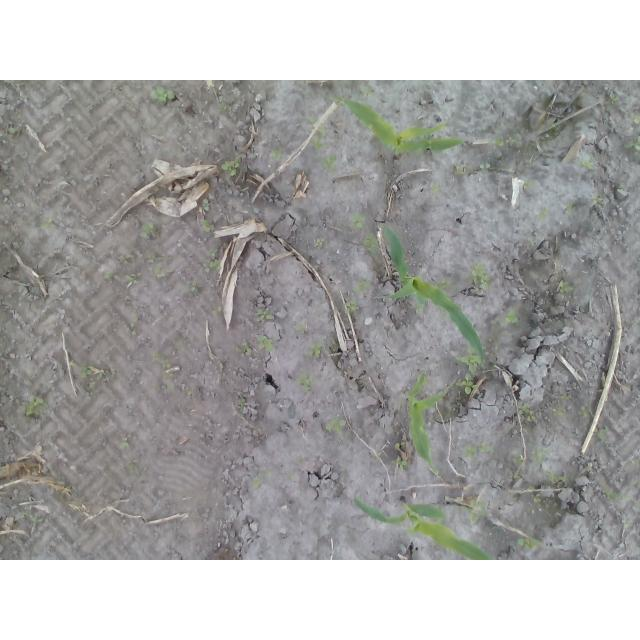Maize: (382, 221, 487, 363), (350, 492, 493, 560), (331, 93, 469, 160), (405, 369, 447, 479)
Weeds: (463, 499, 490, 526), (514, 448, 553, 465), (471, 263, 493, 289), (309, 117, 326, 150), (295, 371, 319, 394), (240, 336, 272, 353), (148, 85, 176, 104), (466, 440, 497, 457), (248, 470, 272, 491), (456, 354, 481, 374), (25, 396, 47, 418), (455, 374, 477, 395), (606, 488, 634, 504), (552, 390, 568, 416), (324, 415, 346, 433), (545, 466, 568, 483), (516, 536, 539, 553), (21, 511, 44, 527), (519, 402, 537, 422), (304, 339, 324, 357), (502, 306, 520, 325), (139, 223, 157, 242), (220, 159, 239, 177), (366, 231, 379, 257), (350, 211, 366, 231), (155, 351, 172, 369), (352, 276, 369, 293), (344, 298, 361, 315), (622, 140, 640, 155), (147, 255, 162, 273), (255, 307, 273, 321), (319, 155, 337, 169), (595, 424, 609, 441), (559, 280, 577, 293), (564, 198, 577, 215), (537, 207, 551, 222), (496, 137, 517, 147), (575, 159, 593, 170), (592, 193, 605, 208), (127, 273, 143, 285), (391, 457, 405, 470), (208, 259, 221, 272), (622, 512, 632, 528), (627, 112, 640, 124), (548, 126, 561, 138), (41, 219, 54, 230), (578, 406, 590, 417), (452, 165, 464, 176), (271, 150, 282, 162), (437, 279, 450, 289), (479, 161, 492, 171), (313, 237, 326, 247), (79, 368, 90, 379), (211, 303, 221, 315), (527, 239, 537, 249), (533, 494, 543, 504), (120, 255, 129, 266), (7, 127, 18, 136), (631, 501, 640, 512), (432, 183, 441, 193), (610, 95, 619, 105), (527, 483, 537, 492), (523, 179, 534, 187), (120, 440, 131, 448), (631, 459, 640, 468), (207, 248, 217, 256), (416, 304, 425, 312), (128, 463, 136, 472), (104, 271, 112, 280), (633, 479, 640, 489), (296, 325, 305, 332), (432, 464, 438, 474), (202, 198, 208, 208), (513, 472, 520, 480), (400, 544, 405, 553), (200, 219, 207, 225), (395, 441, 400, 447)
